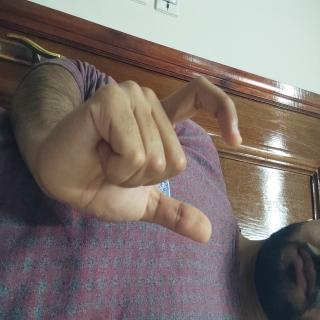NOON: (53, 102, 186, 320)
